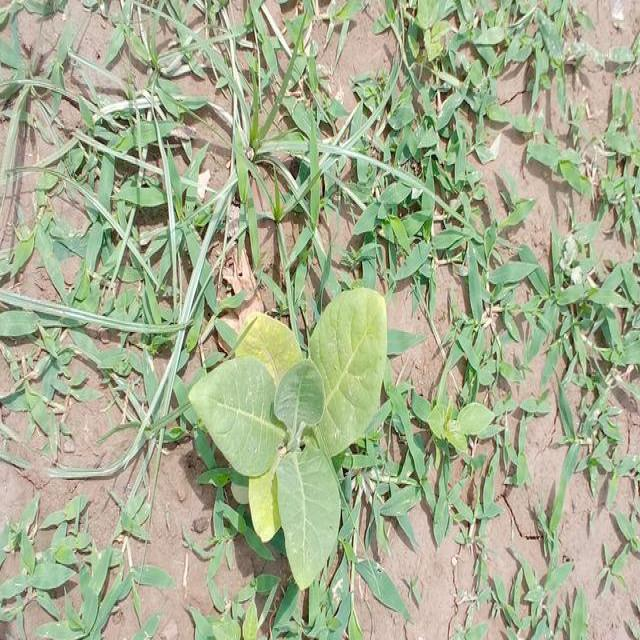crop: (193, 281, 383, 594)
